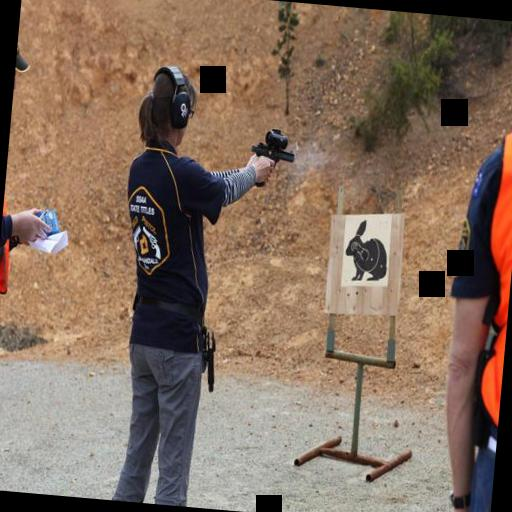Handgun: (244, 123, 300, 194)
